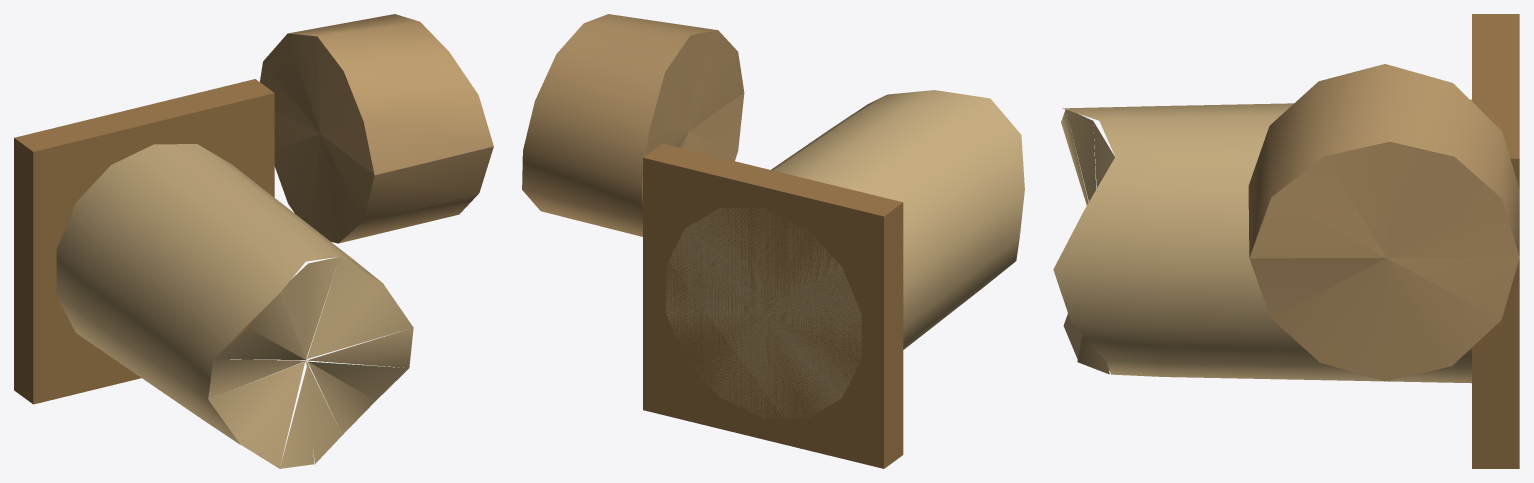
Rendered from pillar_broken.glb.
3 renders of one model, left to right at view 1: azimuth 30°, elevation 25°; view 2: azimuth 150°, elevation 25°; view 3: azimuth 270°, elevation 25°, orthographic. The views are drawn at different scales.
Visible parts, largest first — view 1: PillarMesh; view 2: PillarMesh; view 3: PillarMesh.
Part boxes in pixels (x1,y1,x2,y2): PillarMesh: [14, 14, 493, 468]; PillarMesh: [522, 14, 1024, 468]; PillarMesh: [1053, 14, 1519, 468].
Bounding box in the file's own units: 1.11 × 0.9501 × 0.9807.
